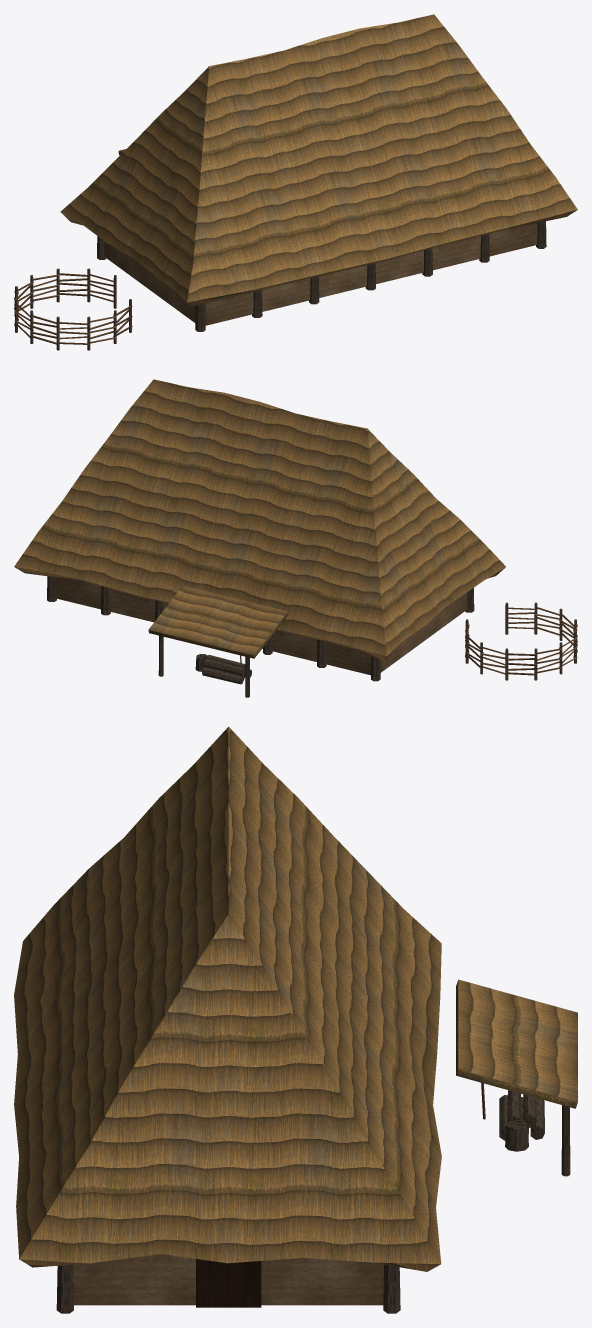
Rendered from casa_lunga_media_b.glb.
The picture shows the model from 3 angles, top to bottom: view 1: azimuth 30°, elevation 25°; view 2: azimuth 150°, elevation 25°; view 3: azimuth 270°, elevation 25°; orthographic projection. The views are drawn at different scales.
Visible parts, largest first — view 1: casa_lunga_media_b; view 2: casa_lunga_media_b; view 3: casa_lunga_media_b.
Boxes of the visible parts, bbox=[...] form: casa_lunga_media_b: bbox=[14, 14, 577, 350]; casa_lunga_media_b: bbox=[14, 379, 577, 697]; casa_lunga_media_b: bbox=[14, 726, 577, 1313].
Size of the model in its own units: 17.9 by 7.23 by 10.37.
Materials: 5 (5 with a texture image).
